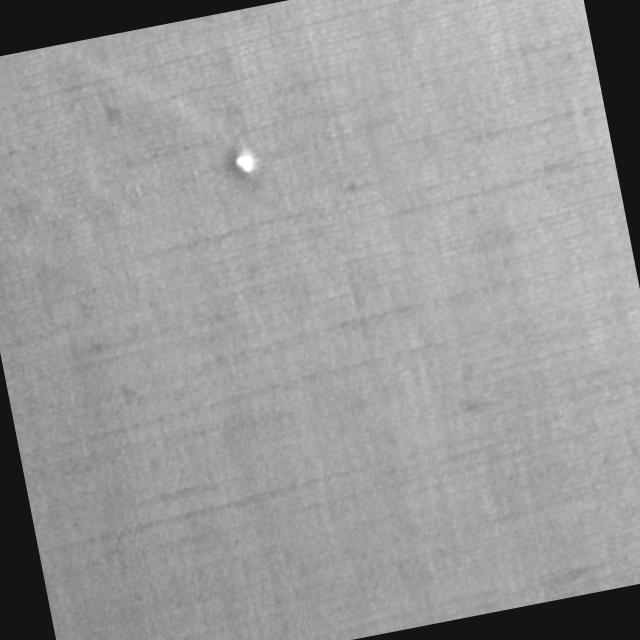hole: (230, 144, 262, 180)
